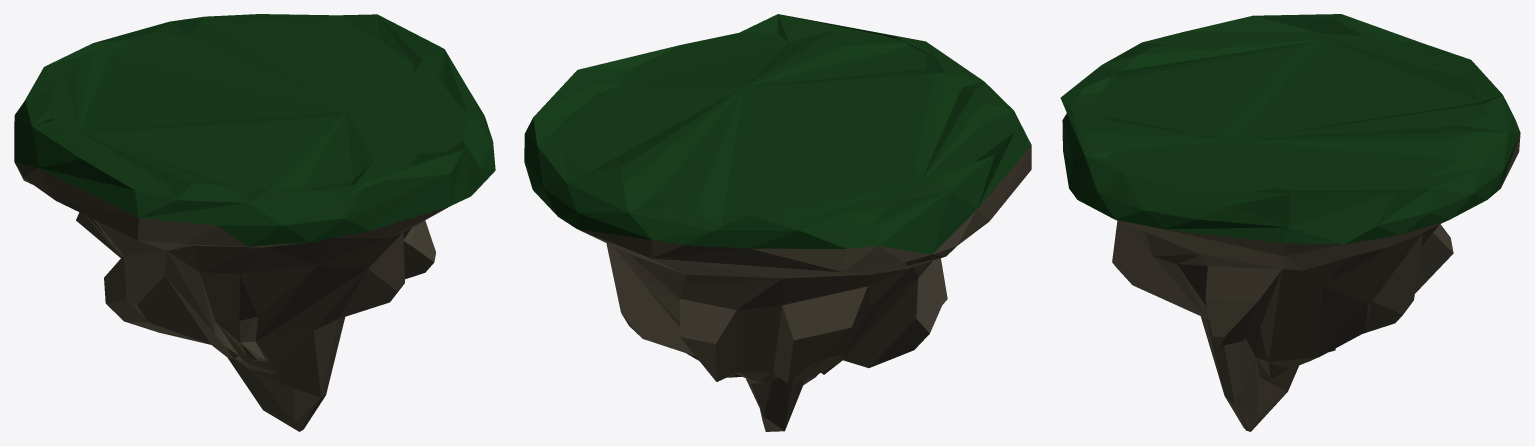
The model's file is SM_FlotingPlatform_2.FBX.
3 renders of one model, left to right at view 1: azimuth 30°, elevation 25°; view 2: azimuth 150°, elevation 25°; view 3: azimuth 270°, elevation 25°, orthographic. The views are drawn at different scales.
Visible parts, largest first — view 1: Cone001; view 2: Cone001; view 3: Cone001.
Boxes of the visible parts, box(x1,y1,x2,y2) form: Cone001: box(14, 14, 495, 431); Cone001: box(524, 14, 1031, 431); Cone001: box(1060, 14, 1520, 431).
Size of the model in its own units: 652 by 495 by 653.
